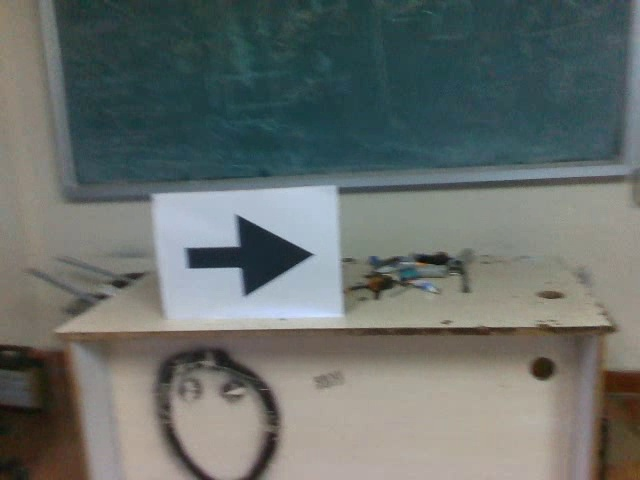Right: (180, 205, 319, 299)
